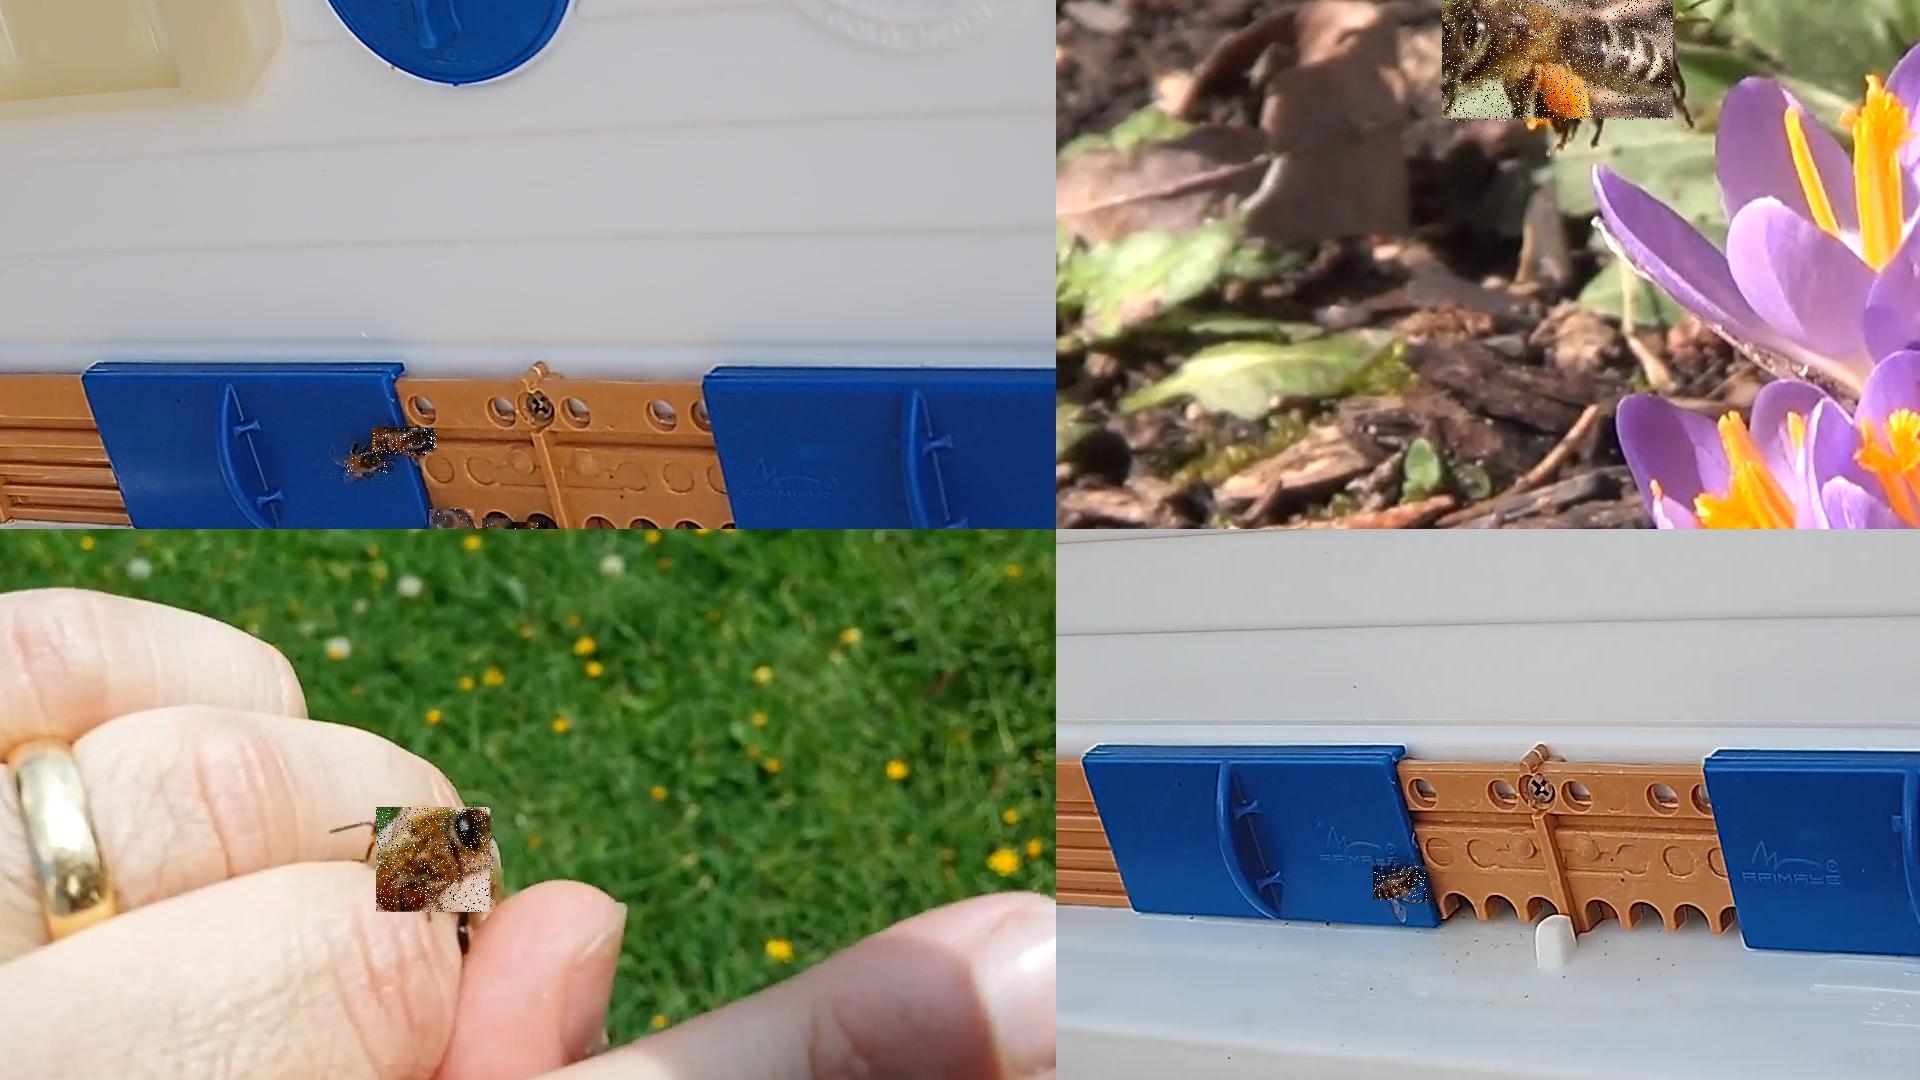bee: (1374, 866, 1429, 901), (373, 429, 439, 456), (344, 455, 388, 477), (429, 509, 476, 527), (483, 518, 513, 527)
drone: (377, 807, 495, 913)
pollenbee: (1443, 0, 1675, 123)
